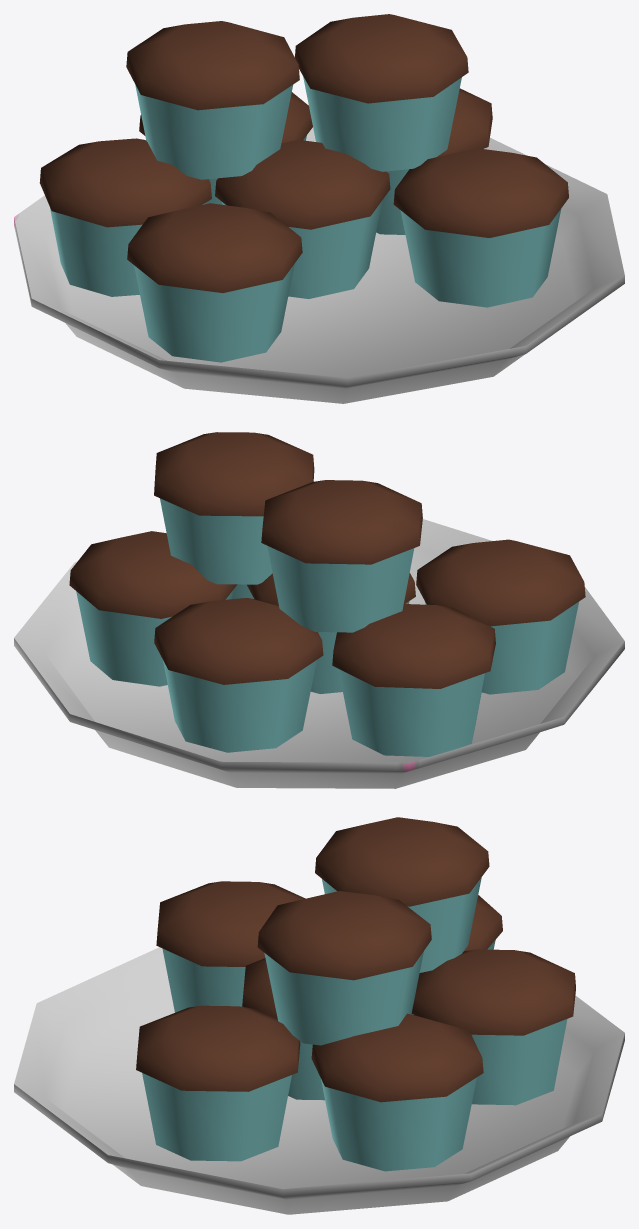
File: furniture_decor_210025.glb
The picture shows the model from 3 angles, top to bottom: view 1: azimuth 30°, elevation 25°; view 2: azimuth 150°, elevation 25°; view 3: azimuth 270°, elevation 25°; orthographic projection. The views are drawn at different scales.
Parts seen in each view (by area): view 1: furniture_decor_210025; view 2: furniture_decor_210025; view 3: furniture_decor_210025.
Boxes of the visible parts, x1,y1,x2,y2 form: furniture_decor_210025: (14,14,624,403); furniture_decor_210025: (14,432,624,788); furniture_decor_210025: (14,817,624,1214).
Bounding box in the file's own units: 0.2812 × 0.118 × 0.2777.
1 material, 1 textured.
